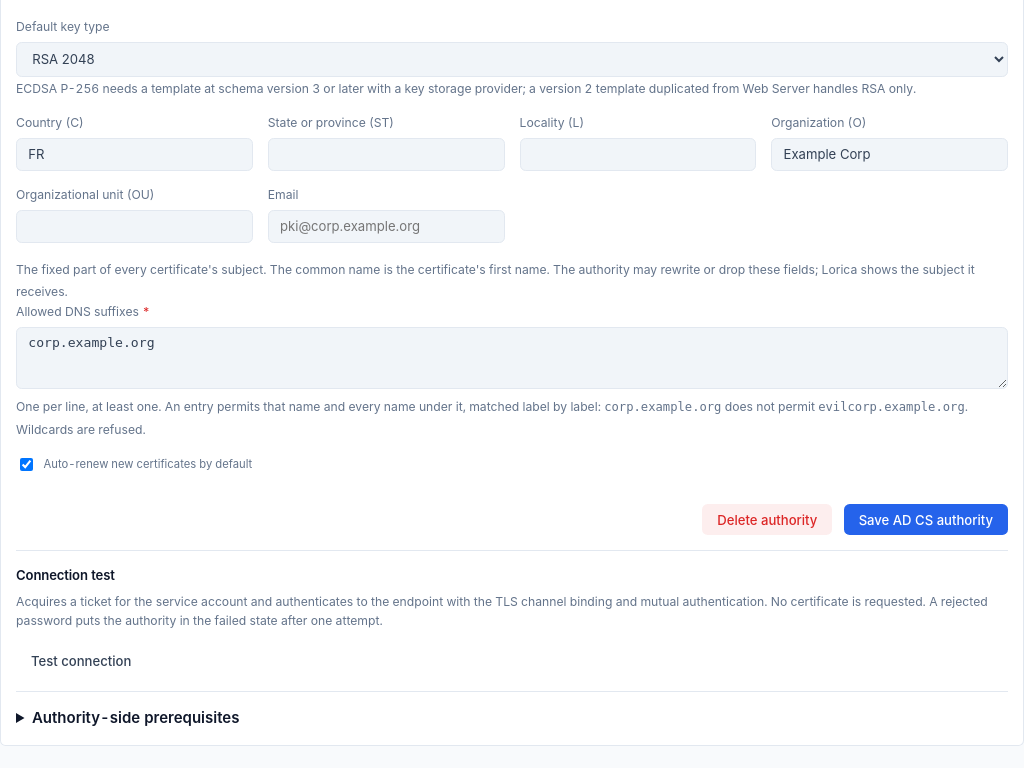
Test: AdcsAuthorityTab refusals › shows a refused delete without an authority as the API words it
(page scrolled)
Click the button "Delete authority" at (767, 520), box [702,504,832,535]
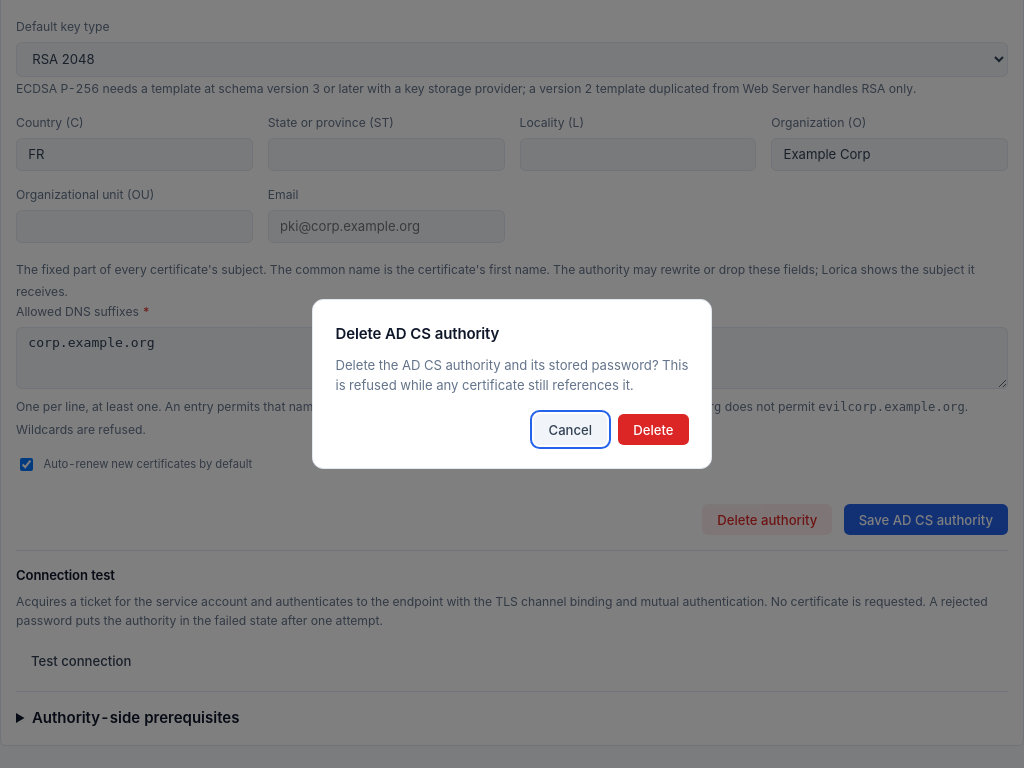
Click the button "Delete" at (653, 430), box [618,414,688,445]
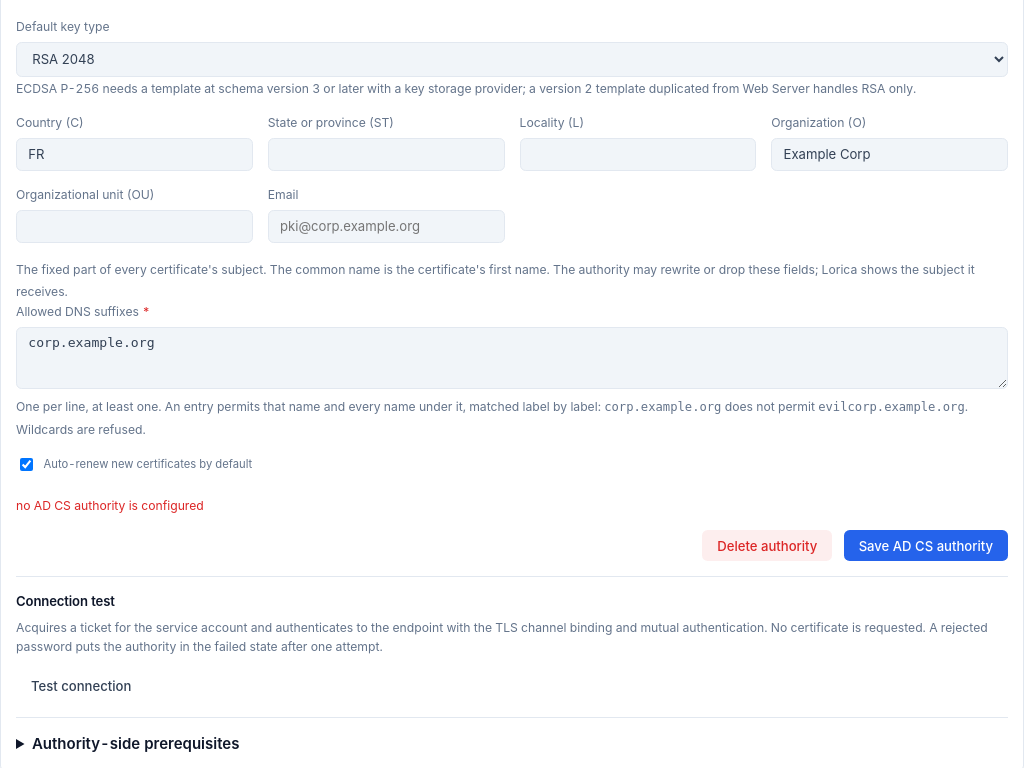
Expected: the message with test id "adcs-delete-error" reads "no AD CS authority is configured", [16,498,204,513]
